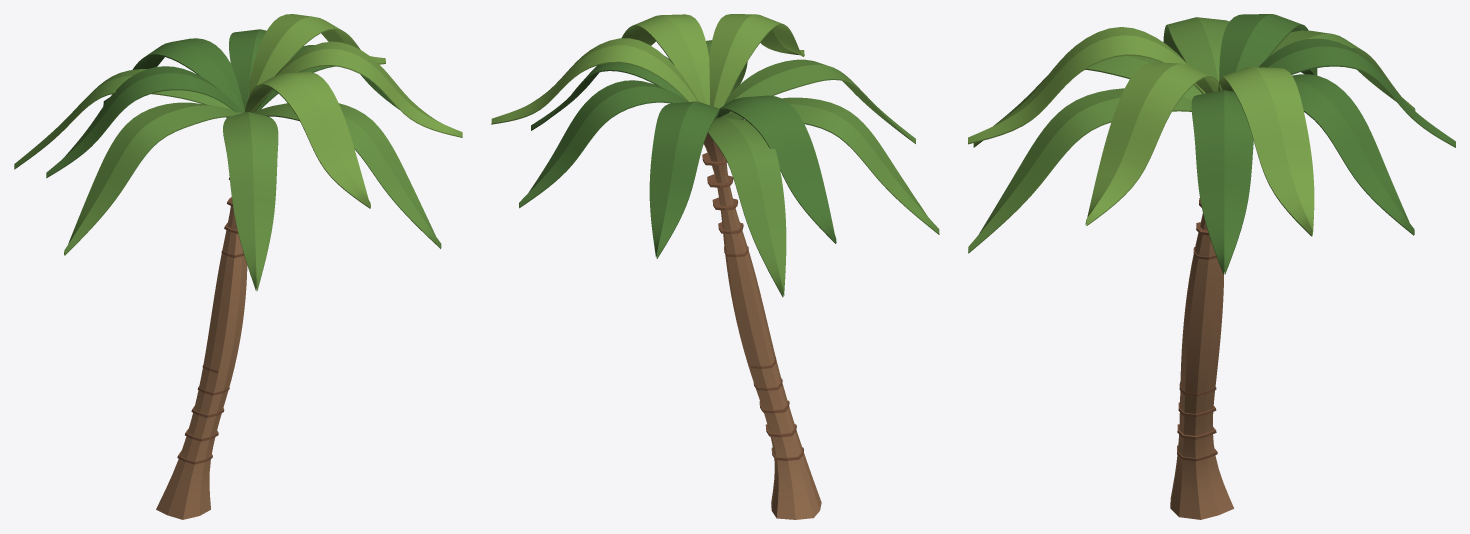
Rendered from tropical_palm.glb.
3 views of the same model, side by side, from view 1: azimuth 30°, elevation 25°; view 2: azimuth 150°, elevation 25°; view 3: azimuth 270°, elevation 25° (orthographic). The views are drawn at different scales.
Parts seen in each view (by area): view 1: Swept palm trunk, Arched palm frond 8, Arched palm frond 3, Arched palm frond 5, Arched palm frond 11, Arched palm frond 10, Arched palm frond 6, Arched palm frond 9, Arched palm frond 7, Arched palm frond 2, Arched palm frond 4; view 2: Swept palm trunk, Arched palm frond 2, Arched palm frond 7, Arched palm frond 10, Arched palm frond 4, Arched palm frond 3, Arched palm frond 5, Arched palm frond 6, Arched palm frond 9, Arched palm frond 8, Arched palm frond 1; view 3: Swept palm trunk, Arched palm frond 9, Arched palm frond 6, Arched palm frond 1, Arched palm frond 4, Arched palm frond 11, Arched palm frond 3, Arched palm frond 7, Arched palm frond 10, Arched palm frond 5, Arched palm frond 8, Arched palm frond 2.
Part boxes in pixels (<box>): Swept palm trunk: <box>156,117,247,519</box>; Arched palm frond 8: <box>223,112,278,291</box>; Arched palm frond 3: <box>244,72,370,208</box>; Arched palm frond 5: <box>64,102,241,255</box>; Arched palm frond 11: <box>253,103,441,248</box>; Arched palm frond 10: <box>46,66,243,178</box>; Arched palm frond 6: <box>250,41,462,137</box>; Arched palm frond 9: <box>248,14,385,97</box>; Arched palm frond 7: <box>103,38,244,112</box>; Arched palm frond 2: <box>14,69,231,169</box>; Arched palm frond 4: <box>229,29,266,109</box>; Swept palm trunk: <box>704,133,821,519</box>; Arched palm frond 2: <box>708,117,786,297</box>; Arched palm frond 7: <box>649,101,719,258</box>; Arched palm frond 10: <box>717,95,836,243</box>; Arched palm frond 4: <box>519,80,688,208</box>; Arched palm frond 3: <box>709,14,804,108</box>; Arched palm frond 5: <box>720,97,939,234</box>; Arched palm frond 6: <box>621,14,709,105</box>; Arched palm frond 9: <box>491,38,698,124</box>; Arched palm frond 8: <box>724,59,915,143</box>; Arched palm frond 1: <box>531,56,685,130</box>; Swept palm trunk: <box>1170,213,1233,519</box>; Arched palm frond 9: <box>1218,67,1314,236</box>; Arched palm frond 6: <box>1085,62,1222,225</box>; Arched palm frond 1: <box>1191,90,1253,274</box>; Arched palm frond 4: <box>1292,74,1414,235</box>; Arched palm frond 11: <box>968,88,1191,253</box>; Arched palm frond 3: <box>968,27,1205,144</box>; Arched palm frond 7: <box>1259,38,1455,147</box>; Arched palm frond 10: <box>1219,14,1317,78</box>; Arched palm frond 5: <box>1163,17,1229,81</box>; Arched palm frond 8: <box>973,55,1202,147</box>; Arched palm frond 2: <box>1270,30,1415,110</box>.
Bounding box in the file's own units: 6.21 × 6.81 × 5.82.
